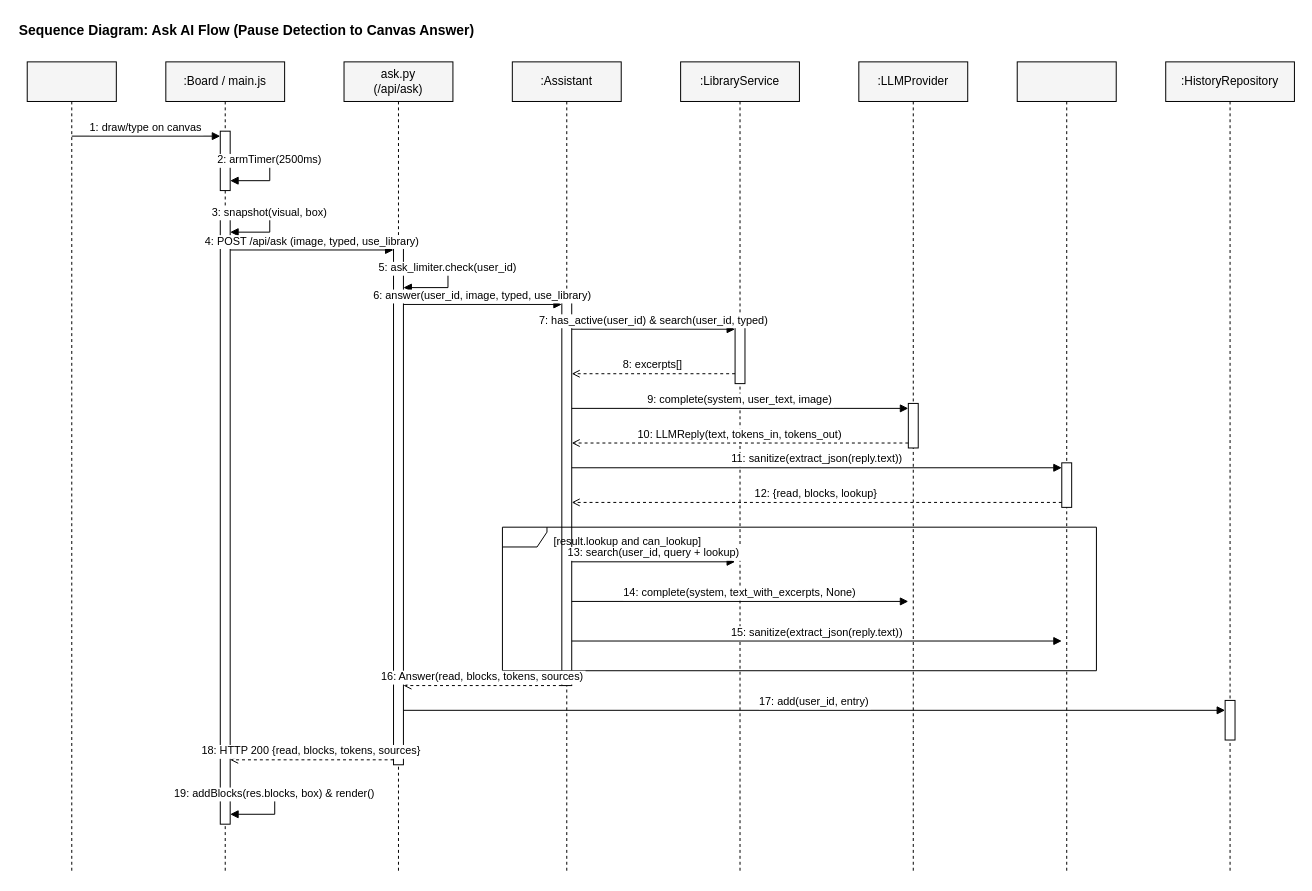
The diagram is 1312 pixels wide and 891 high, and some of its shapes have lost their labels. Here are the shapes that lost their labels. From the top down, the box of each, then its label:
(26, 61, 116, 874): User
(1016, 61, 1116, 874): blocks.py
(501, 526, 1096, 671): alt
